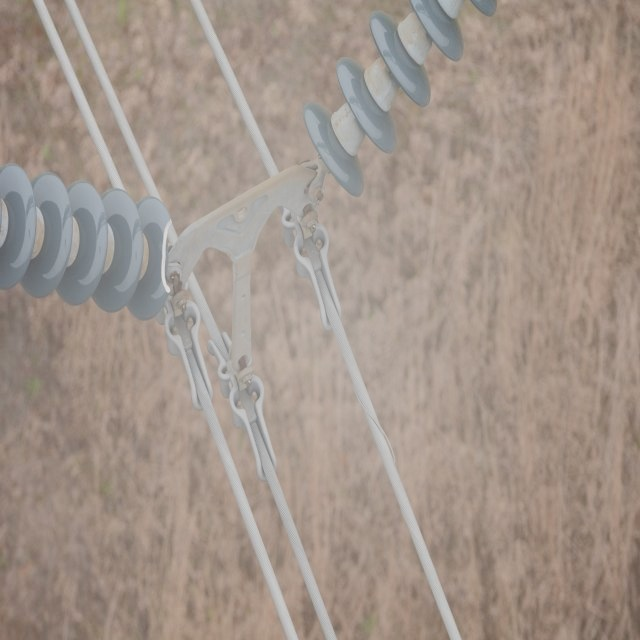broken: (160, 215, 173, 298)
insulator: (302, 1, 499, 200), (0, 162, 175, 322)
